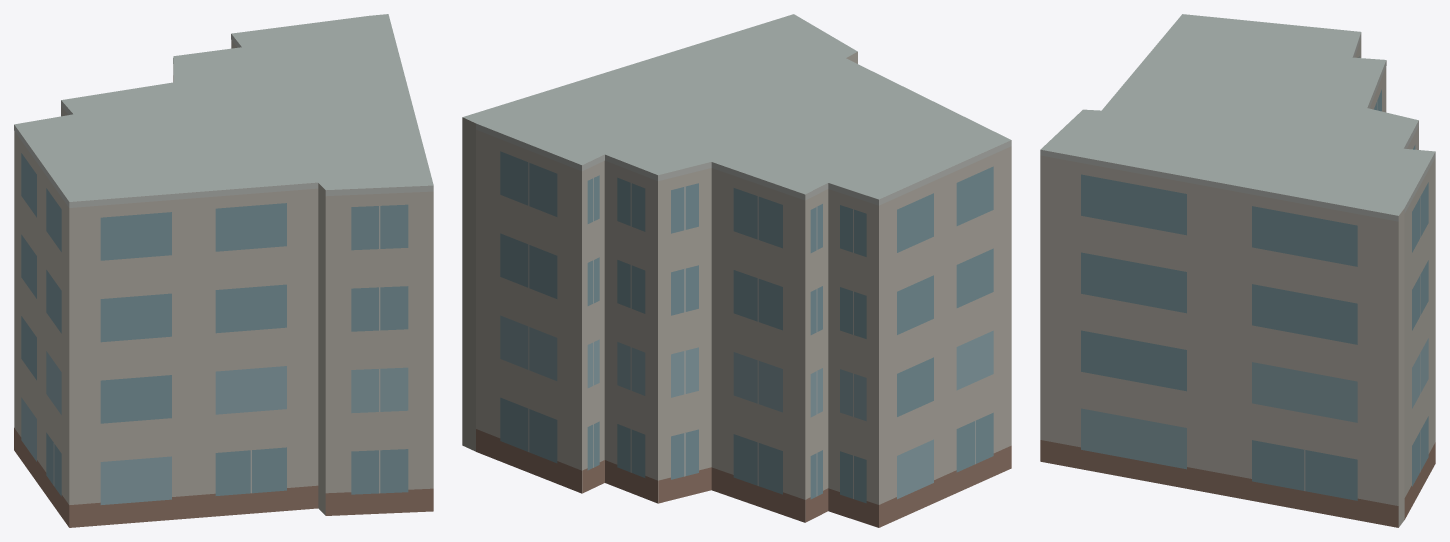
Rendered from survey-upis-32837958.glb.
3 renders of one model, left to right at view 1: azimuth 30°, elevation 25°; view 2: azimuth 150°, elevation 25°; view 3: azimuth 270°, elevation 25°, orthographic. The views are drawn at different scales.
Visible parts, largest first — view 1: survey-upis-32837958.tmp; view 2: survey-upis-32837958.tmp; view 3: survey-upis-32837958.tmp.
Boxes of the visible parts, left/top/right/bottom form: survey-upis-32837958.tmp: left=14, top=14, right=433, bottom=527; survey-upis-32837958.tmp: left=462, top=14, right=1011, bottom=527; survey-upis-32837958.tmp: left=1040, top=14, right=1435, bottom=527.
Bounding box in the file's own units: 18.33 × 13.2 × 15.17.
